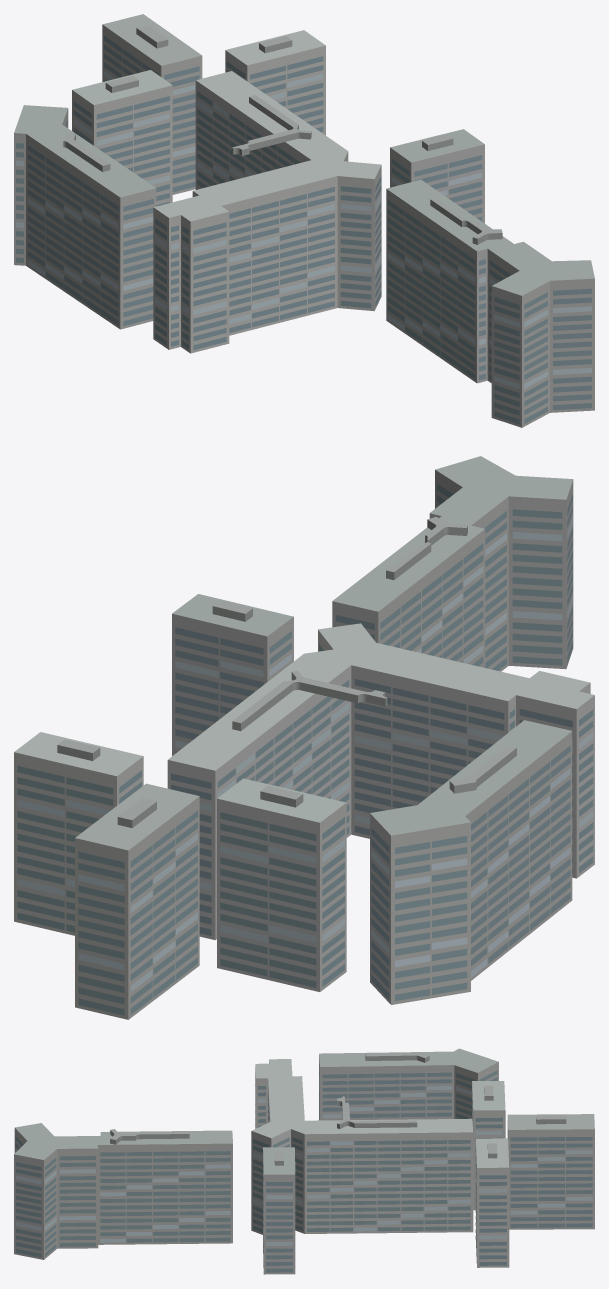
Rendered from apt-a13922905.glb.
3 renders of one model, top to bottom at view 1: azimuth 30°, elevation 25°; view 2: azimuth 150°, elevation 25°; view 3: azimuth 270°, elevation 25°, orthographic. The views are drawn at different scales.
Parts seen in each view (by area): view 1: apt-a13922905; view 2: apt-a13922905; view 3: apt-a13922905.
Part boxes in pixels (x1,y1,x2,y2): apt-a13922905: (14,14,594,427); apt-a13922905: (14,456,594,1019); apt-a13922905: (14,1048,594,1274).
Size of the model in its own units: 104 by 40 by 201.
